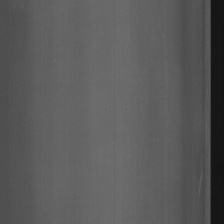silk_spot: (198, 43, 209, 194)
